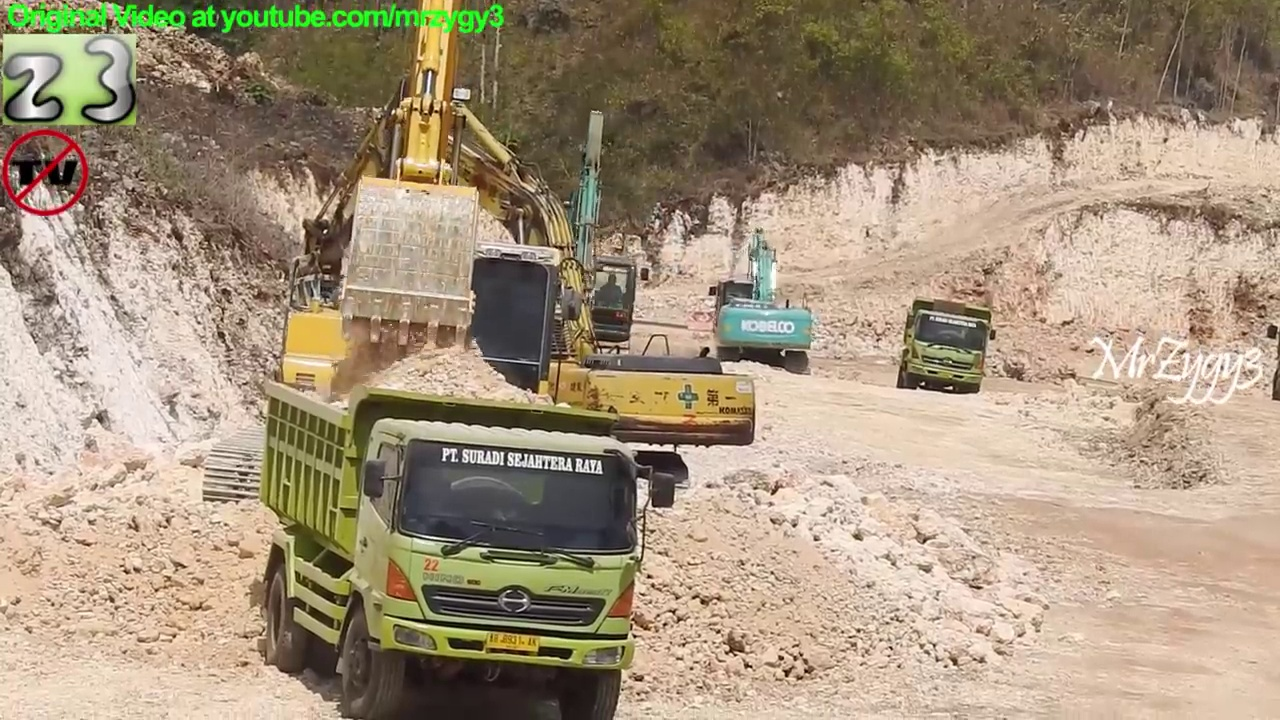excavator: (200, 3, 637, 519), (277, 57, 760, 520), (475, 107, 675, 398), (703, 224, 817, 381)
truck: (258, 376, 681, 720), (895, 296, 998, 398)
